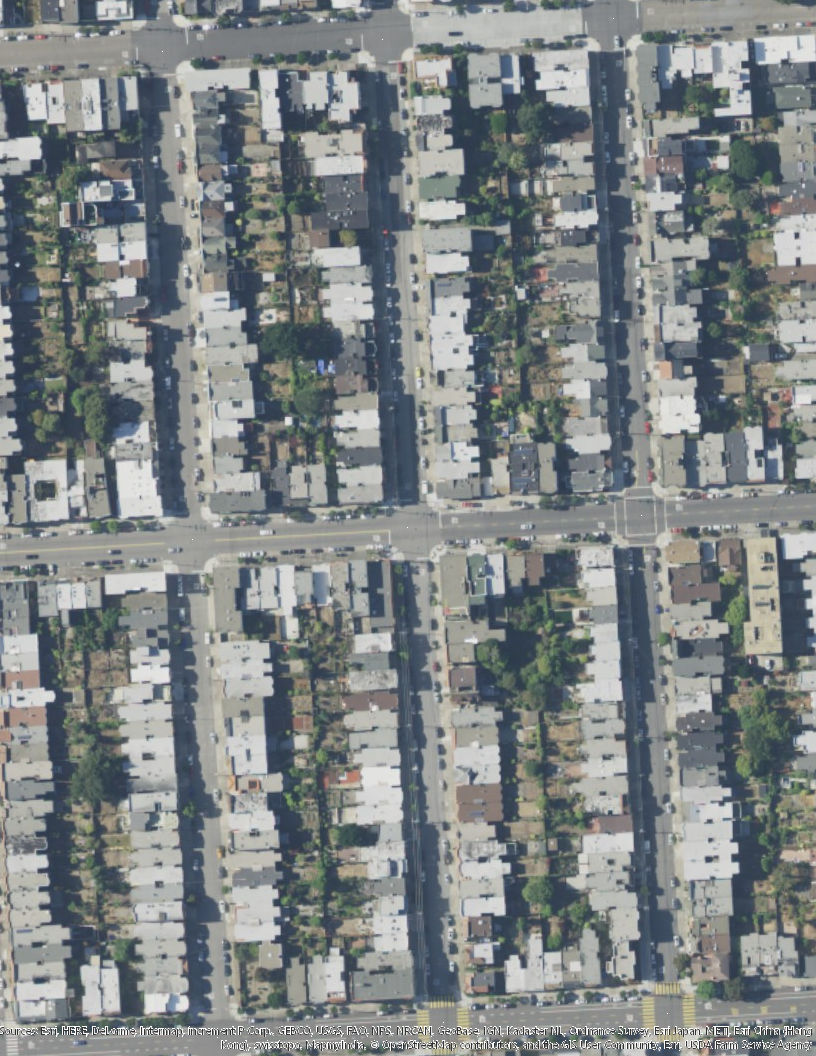zebracross: (681, 994, 695, 1027), (642, 998, 656, 1027), (428, 995, 457, 1008), (657, 981, 681, 994), (5, 1034, 17, 1056), (417, 1009, 429, 1023), (457, 1009, 468, 1024)
